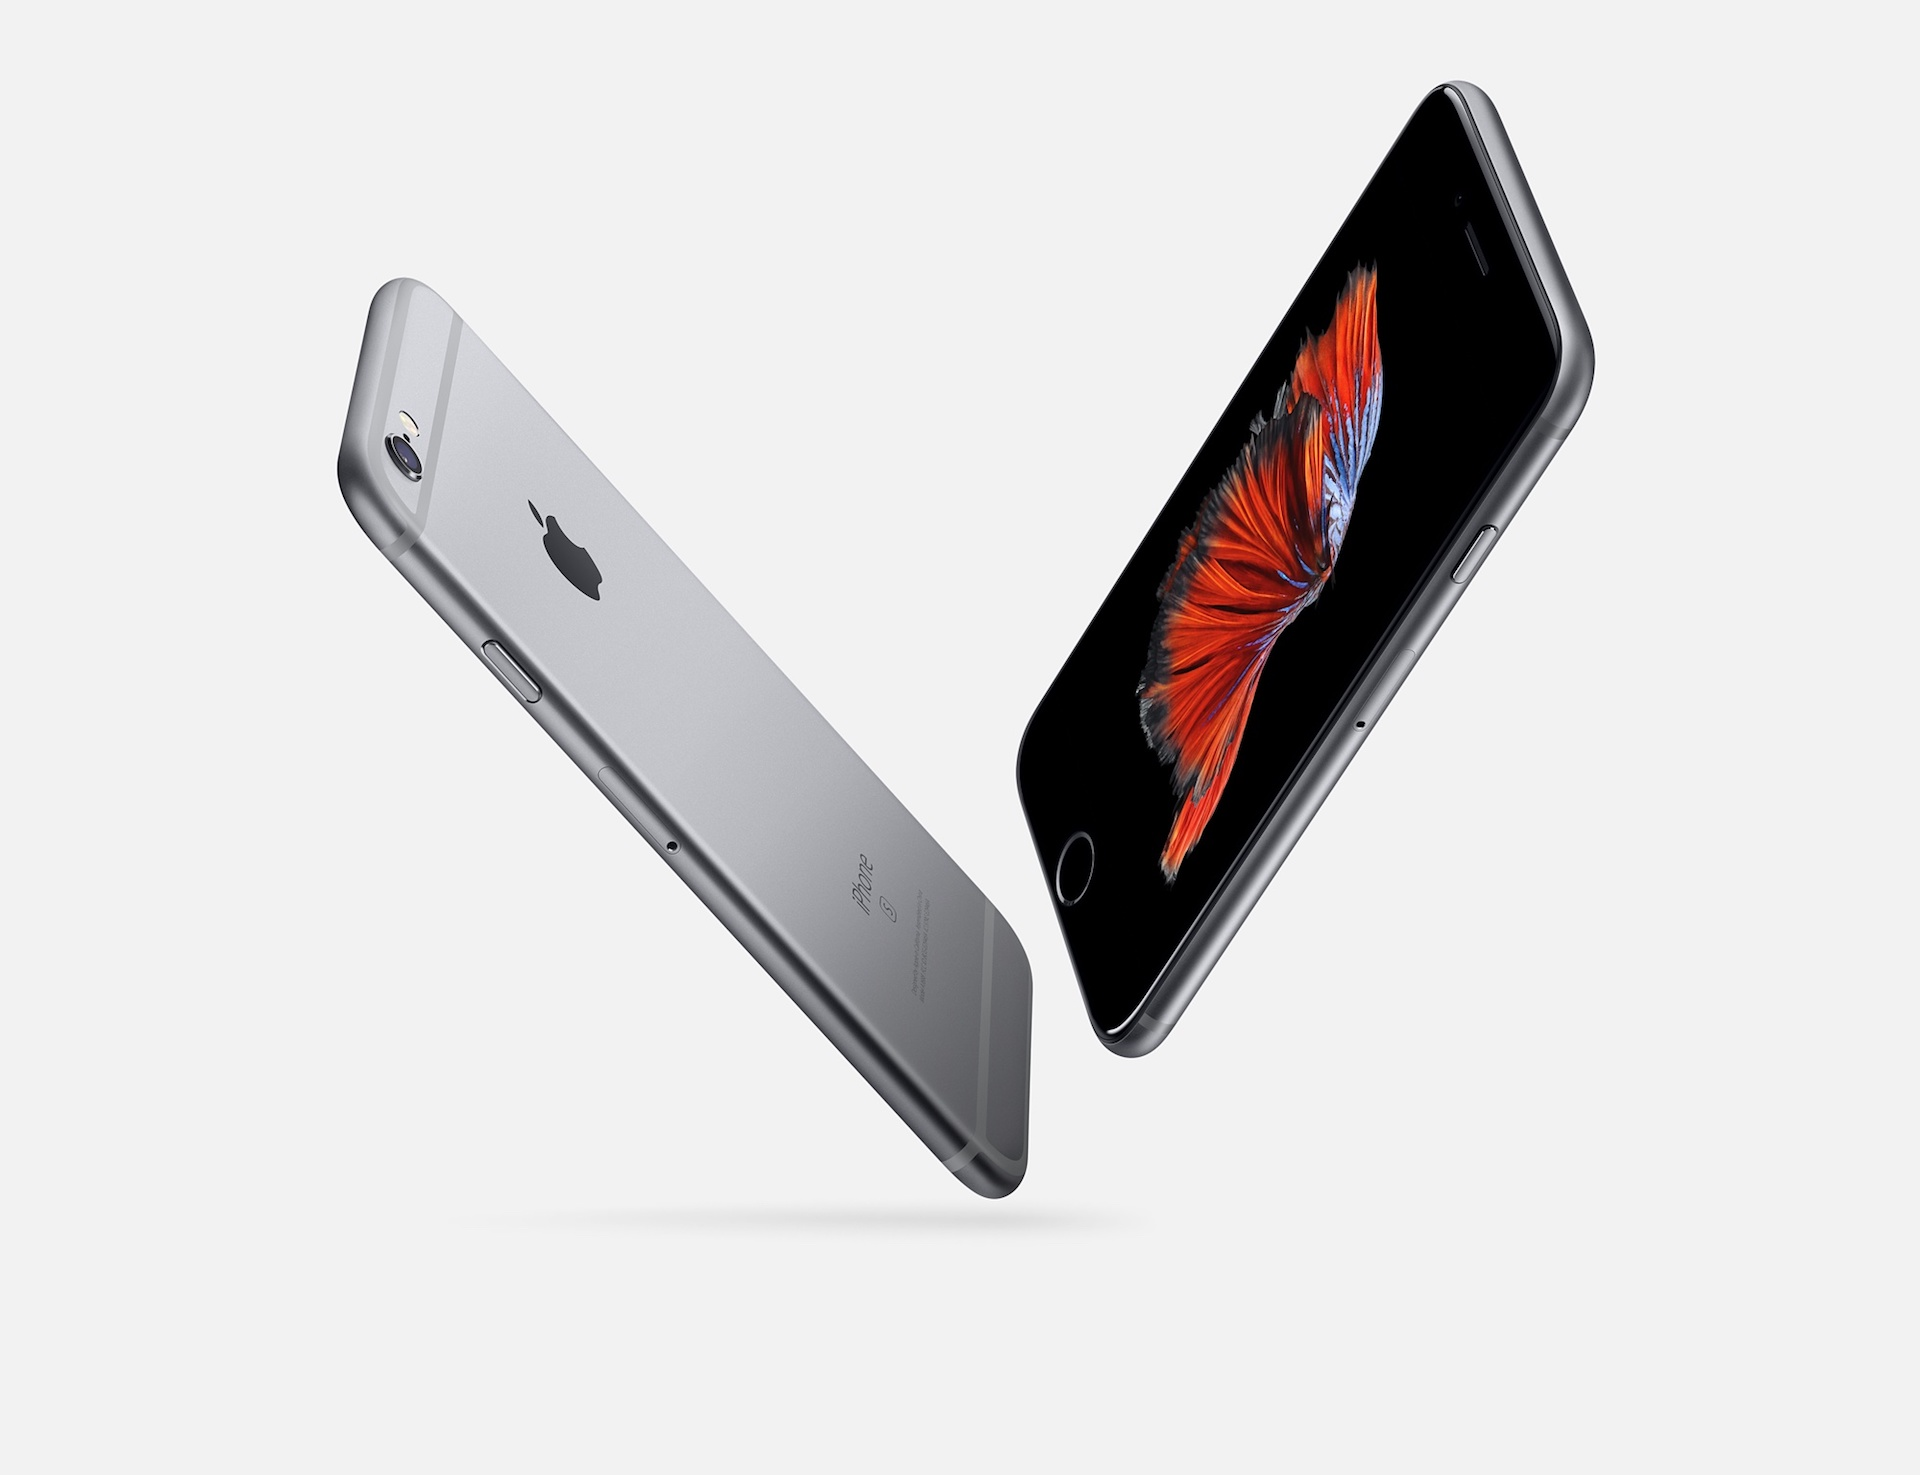smartphone: (335, 274, 1034, 1201), (1012, 76, 1599, 1060)
